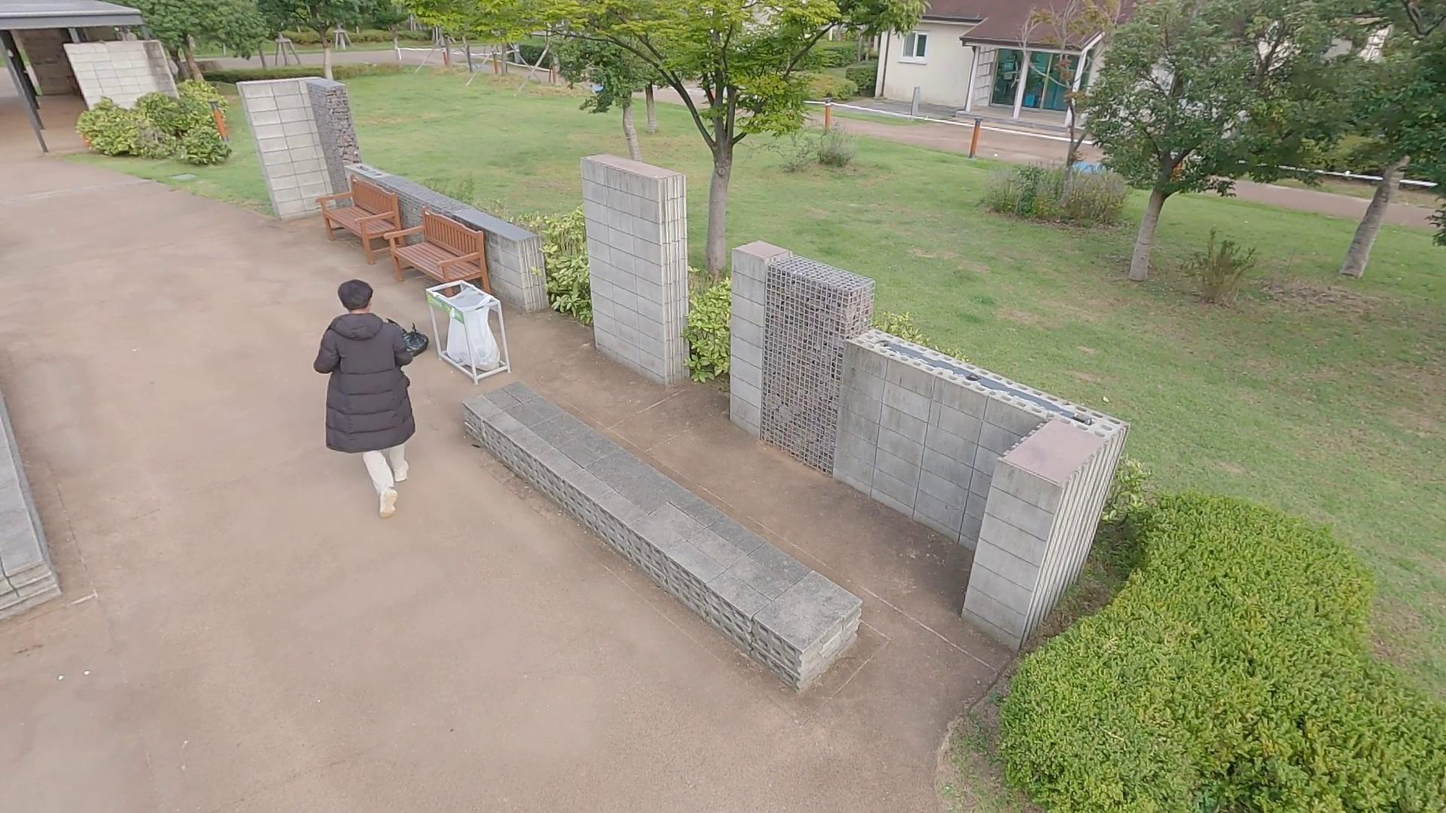person: (308, 277, 430, 518)
trash: (398, 325, 430, 366)
